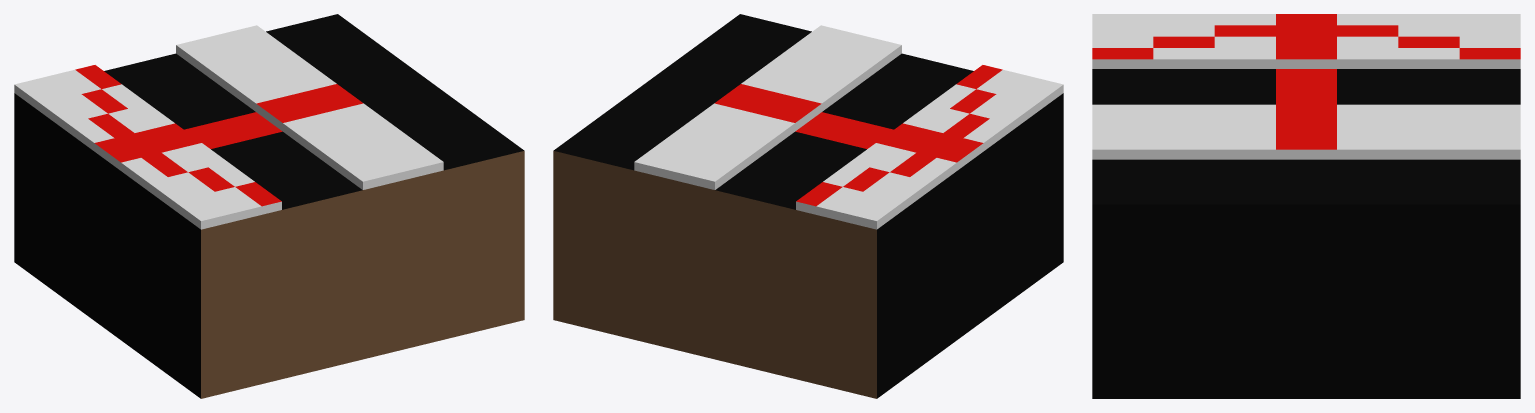
The model's file is SimpleBeltV4.fbx.
The picture shows the model from 3 angles, left to right: view 1: azimuth 30°, elevation 25°; view 2: azimuth 150°, elevation 25°; view 3: azimuth 270°, elevation 25°; orthographic projection. The views are drawn at different scales.
Visible parts, largest first — view 1: Cube; view 2: Cube; view 3: Cube.
Part boxes in pixels (bbox=[...]): Cube: bbox=[14, 14, 524, 398]; Cube: bbox=[553, 14, 1063, 398]; Cube: bbox=[1092, 14, 1520, 398].
Size of the model in its own units: 100 by 52.5 by 100.
